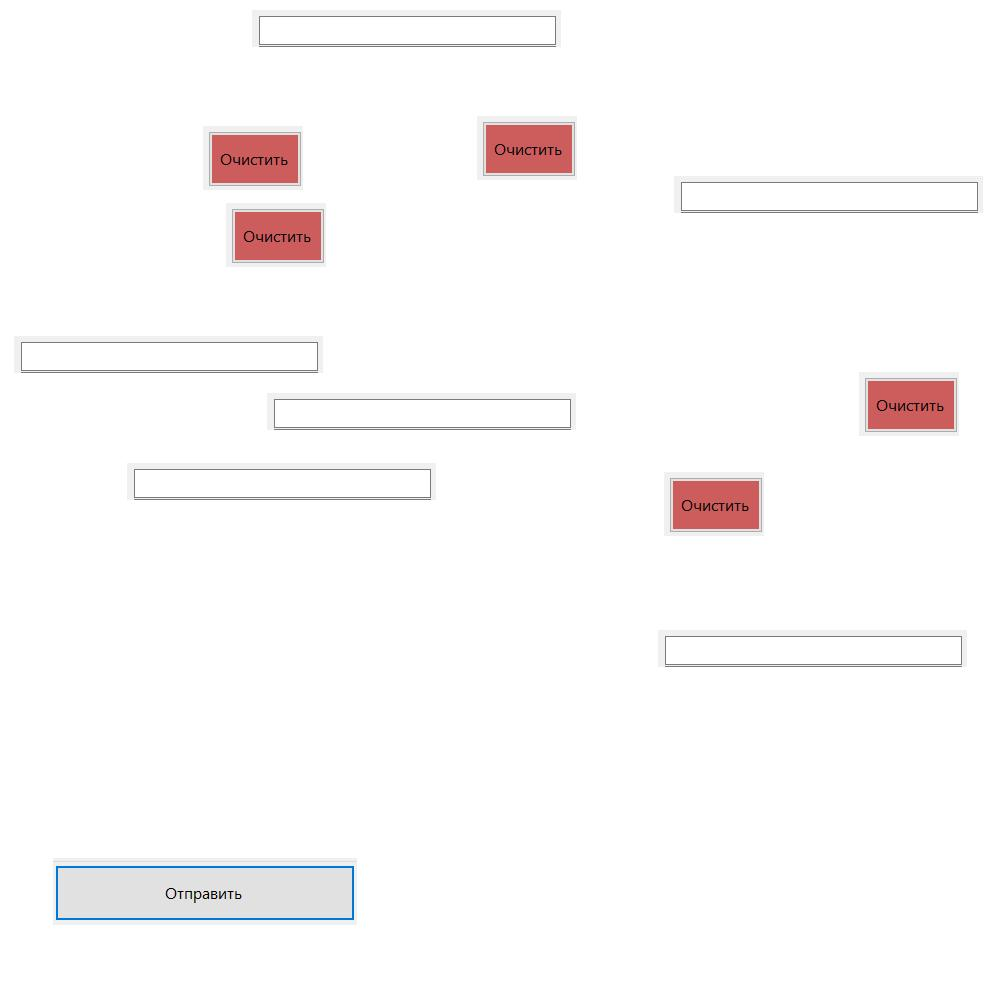Button: (53, 858, 357, 925), (203, 126, 303, 190), (226, 203, 326, 267), (859, 372, 959, 436), (477, 116, 577, 180), (664, 472, 764, 536)
EditText-: (14, 336, 323, 373), (658, 630, 967, 667), (674, 176, 983, 213), (252, 10, 561, 47), (127, 463, 436, 500), (267, 393, 576, 430)
